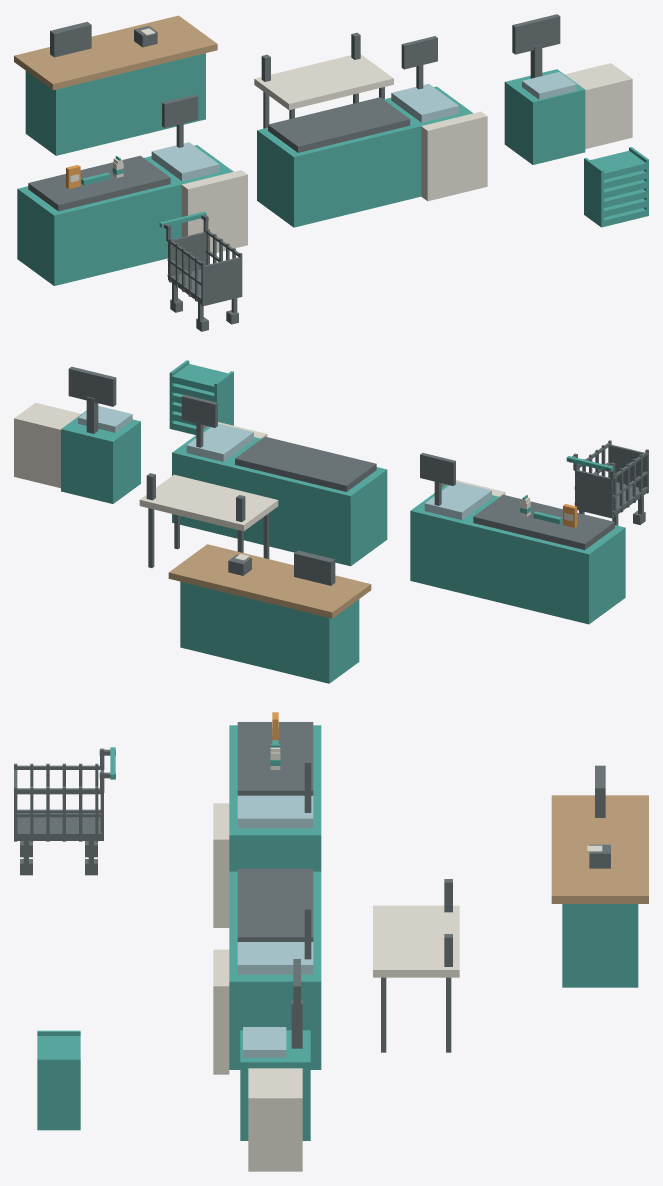
The model's file is supermarket-operations-checkout-and-service-fa32312f__26953.glb.
The picture shows the model from 3 angles, top to bottom: view 1: azimuth 30°, elevation 25°; view 2: azimuth 150°, elevation 25°; view 3: azimuth 270°, elevation 25°; orthographic projection. The views are drawn at different scales.
Parts seen in each view (by area): view 1: 001-belt-checkout/2, 000-belt-checkout/2, 003-service-desk/1, 003-service-desk/2, 002-self-checkout/2, 001-belt-checkout/1, 004-shopping-trolley/0, 001-belt-checkout/0, 000-belt-checkout/1, 006-bagging-table/0, 005-basket-stack/0, 000-belt-checkout/0 (+7 smaller); view 2: 000-belt-checkout/2, 001-belt-checkout/2, 003-service-desk/1, 003-service-desk/2, 002-self-checkout/2, 001-belt-checkout/1, 000-belt-checkout/1, 004-shopping-trolley/0, 006-bagging-table/0, 002-self-checkout/0, 005-basket-stack/0, 002-self-checkout/1 (+5 smaller); view 3: 003-service-desk/2, 001-belt-checkout/2, 003-service-desk/1, 006-bagging-table/0, 004-shopping-trolley/0, 001-belt-checkout/1, 000-belt-checkout/2, 002-self-checkout/0, 000-belt-checkout/1, 005-basket-stack/0, 002-self-checkout/2, 000-belt-checkout/3 (+6 smaller).
Boxes of the visible parts, x1,y1,x2,y2 form: 001-belt-checkout/2: (257, 86, 472, 227); 000-belt-checkout/2: (17, 145, 233, 285); 003-service-desk/1: (25, 53, 205, 155); 003-service-desk/2: (14, 15, 217, 90); 002-self-checkout/2: (504, 69, 585, 164); 001-belt-checkout/1: (268, 36, 437, 152); 004-shopping-trolley/0: (164, 214, 242, 331); 001-belt-checkout/0: (421, 111, 487, 201); 000-belt-checkout/1: (28, 94, 198, 211); 006-bagging-table/0: (254, 54, 393, 110); 005-basket-stack/0: (584, 147, 648, 227); 000-belt-checkout/0: (181, 170, 247, 252); 000-belt-checkout/2: (410, 484, 625, 624); 001-belt-checkout/2: (172, 426, 387, 566); 003-service-desk/1: (180, 581, 359, 683); 003-service-desk/2: (168, 544, 371, 618); 002-self-checkout/2: (61, 410, 140, 503); 001-belt-checkout/1: (181, 394, 376, 491); 000-belt-checkout/1: (420, 453, 614, 549); 004-shopping-trolley/0: (568, 440, 648, 525); 006-bagging-table/0: (139, 474, 278, 531); 002-self-checkout/0: (14, 402, 80, 488); 005-basket-stack/0: (169, 360, 233, 434); 002-self-checkout/1: (68, 366, 116, 433); 003-service-desk/2: (551, 795, 648, 903); 001-belt-checkout/2: (229, 871, 321, 1069); 003-service-desk/1: (562, 904, 638, 987); 006-bagging-table/0: (373, 905, 459, 977); 004-shopping-trolley/0: (14, 748, 115, 875); 001-belt-checkout/1: (237, 868, 313, 959); 000-belt-checkout/2: (229, 725, 321, 871); 002-self-checkout/0: (248, 1068, 302, 1171); 000-belt-checkout/1: (237, 722, 313, 812); 005-basket-stack/0: (37, 1030, 80, 1130); 002-self-checkout/2: (240, 1030, 310, 1140); 000-belt-checkout/3: (237, 795, 313, 828).
Size of the model in its own units: 7.83 by 1.6 by 5.86.
